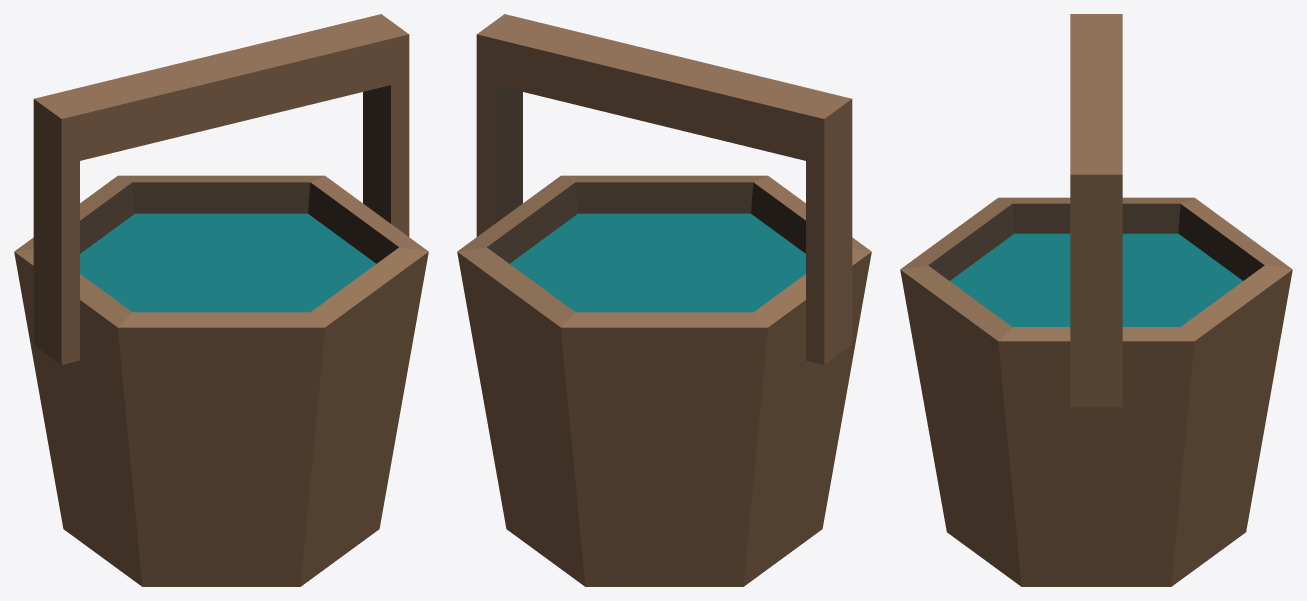
File: TB_D_Prop_HBucket_Water_A.FBX
The picture shows the model from 3 angles, left to right: view 1: azimuth 30°, elevation 25°; view 2: azimuth 150°, elevation 25°; view 3: azimuth 270°, elevation 25°; orthographic projection. The views are drawn at different scales.
Parts seen in each view (by area): view 1: TB_D_Prop_HBucket_Water_A; view 2: TB_D_Prop_HBucket_Water_A; view 3: TB_D_Prop_HBucket_Water_A.
Boxes of the visible parts, x1=… form: TB_D_Prop_HBucket_Water_A: x1=14, y1=14, x2=428, y2=586; TB_D_Prop_HBucket_Water_A: x1=457, y1=14, x2=871, y2=586; TB_D_Prop_HBucket_Water_A: x1=900, y1=14, x2=1292, y2=586.
Bounding box in the file's own units: 0.5879 × 0.7477 × 0.6076.
